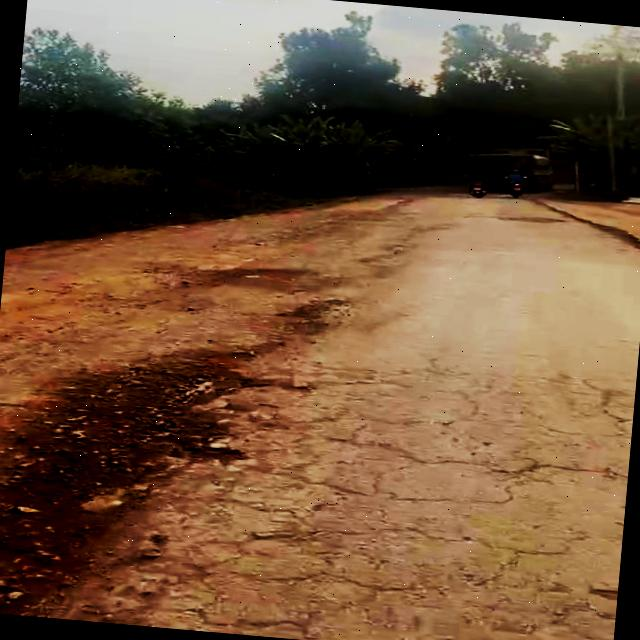pothole: (138, 358, 266, 477)
